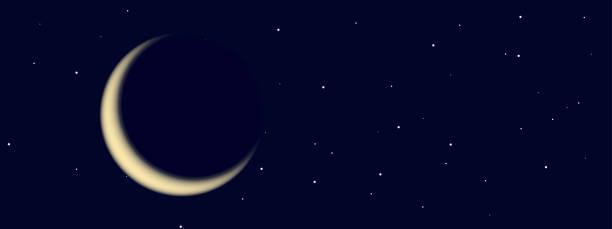moon: (98, 25, 267, 196)
